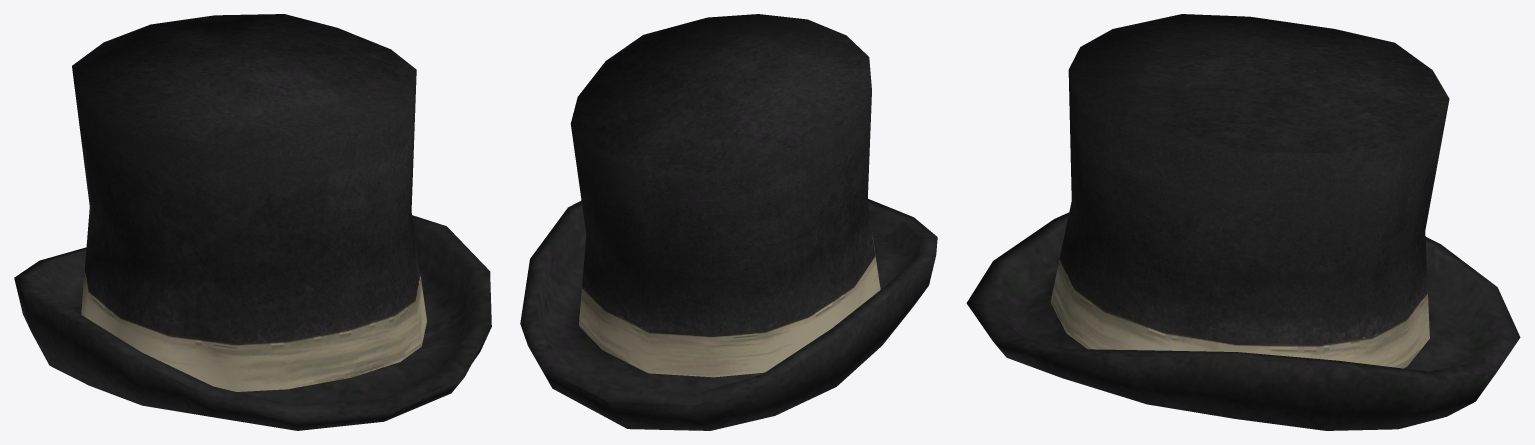
File: Hat 13.FBX
3 views of the same model, side by side, from view 1: azimuth 30°, elevation 25°; view 2: azimuth 150°, elevation 25°; view 3: azimuth 270°, elevation 25° (orthographic). The views are drawn at different scales.
Visible parts, largest first — view 1: hat 13; view 2: hat 13; view 3: hat 13.
Boxes of the visible parts, left/top/right/bottom form: hat 13: left=14, top=14, right=491, bottom=430; hat 13: left=520, top=14, right=937, bottom=430; hat 13: left=966, top=14, right=1520, bottom=430.
Bounding box in the file's own units: 24.22 × 19.72 × 30.91.
Materials: 1 (1 with a texture image).
